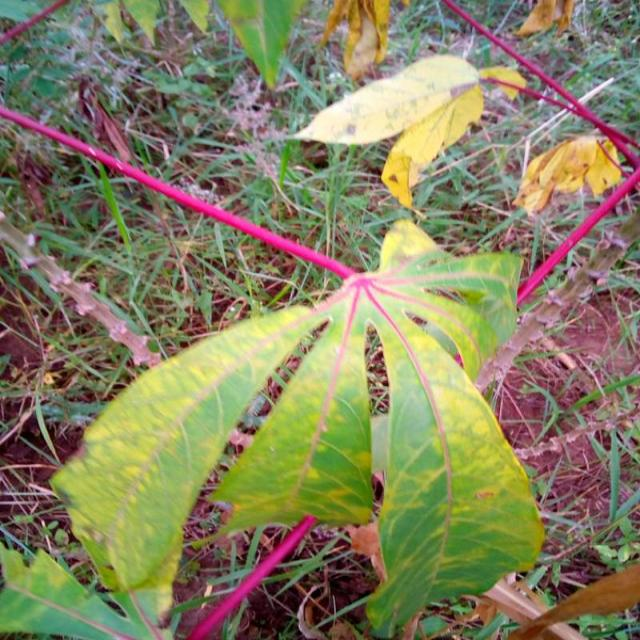cassava leaf: (48, 217, 544, 638), (48, 300, 328, 623), (364, 300, 546, 639), (205, 296, 374, 538), (288, 51, 526, 209)
